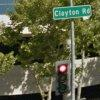Tree: (6, 1, 64, 69)
